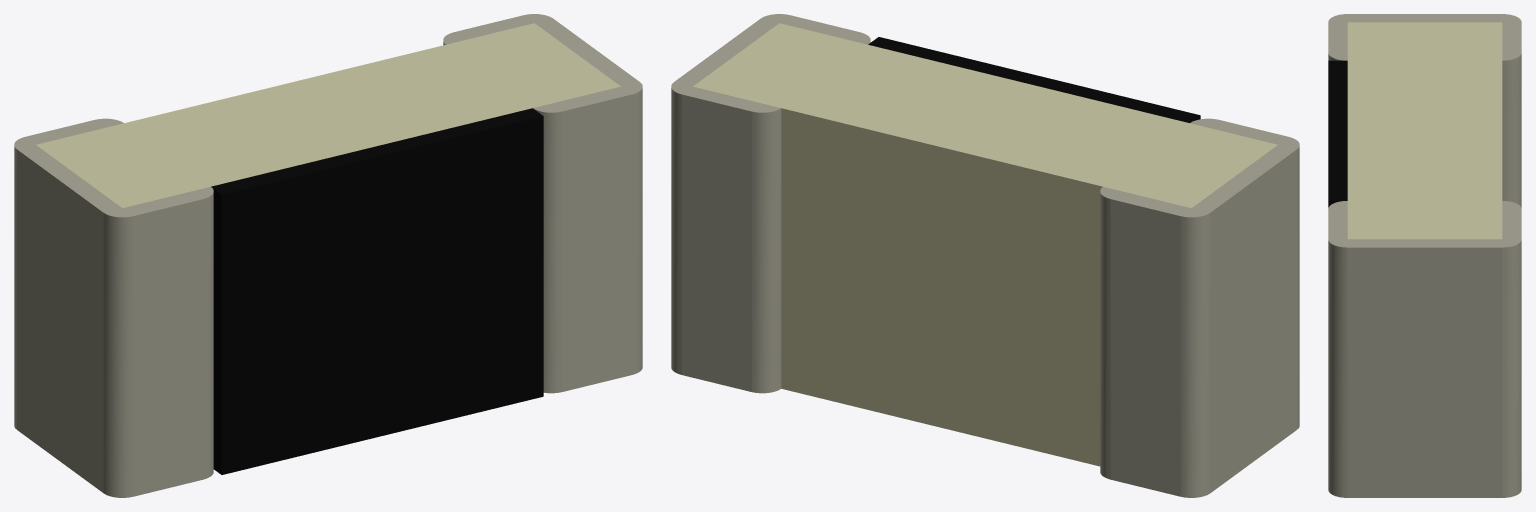
The model's file is r_0402_1005metric.glb.
The picture shows the model from 3 angles, left to right: view 1: azimuth 30°, elevation 25°; view 2: azimuth 150°, elevation 25°; view 3: azimuth 270°, elevation 25°; orthographic projection. The views are drawn at different scales.
Parts seen in each view (by area): view 1: R_0402_1005Metric; view 2: R_0402_1005Metric; view 3: R_0402_1005Metric.
Part boxes in pixels (x1=…): R_0402_1005Metric: x1=14, y1=14, x2=642, y2=497; R_0402_1005Metric: x1=671, y1=14, x2=1299, y2=497; R_0402_1005Metric: x1=1328, y1=14, x2=1521, y2=497.
Bounding box in the file's own units: 1 × 0.5 × 0.35.
